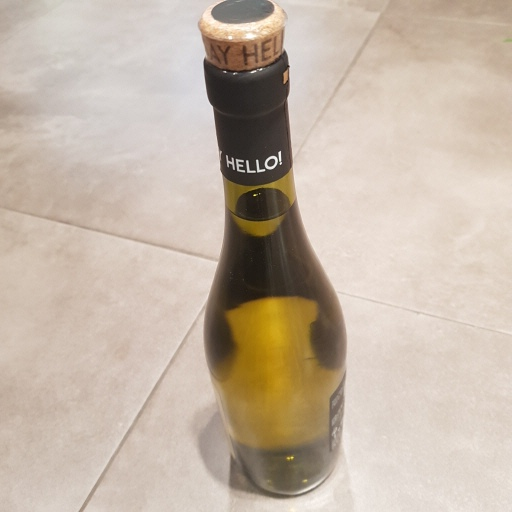Glass_2: (189, 2, 355, 498)
